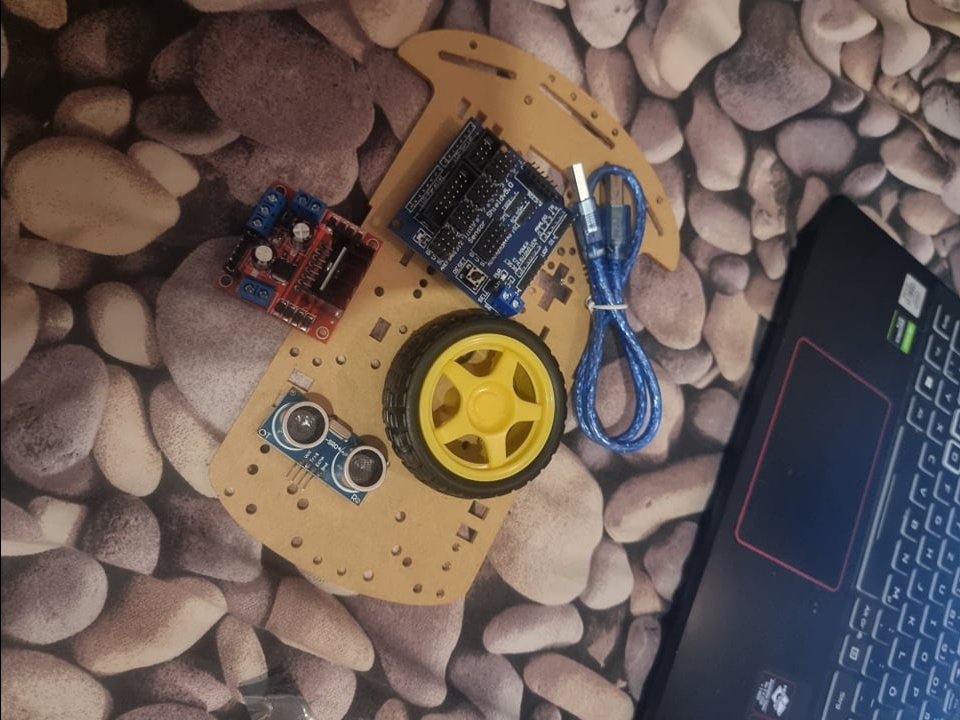5V EXPANSION: (384, 120, 565, 313)
MOTOR: (211, 179, 379, 341)
SENSOR: (260, 390, 387, 499)
